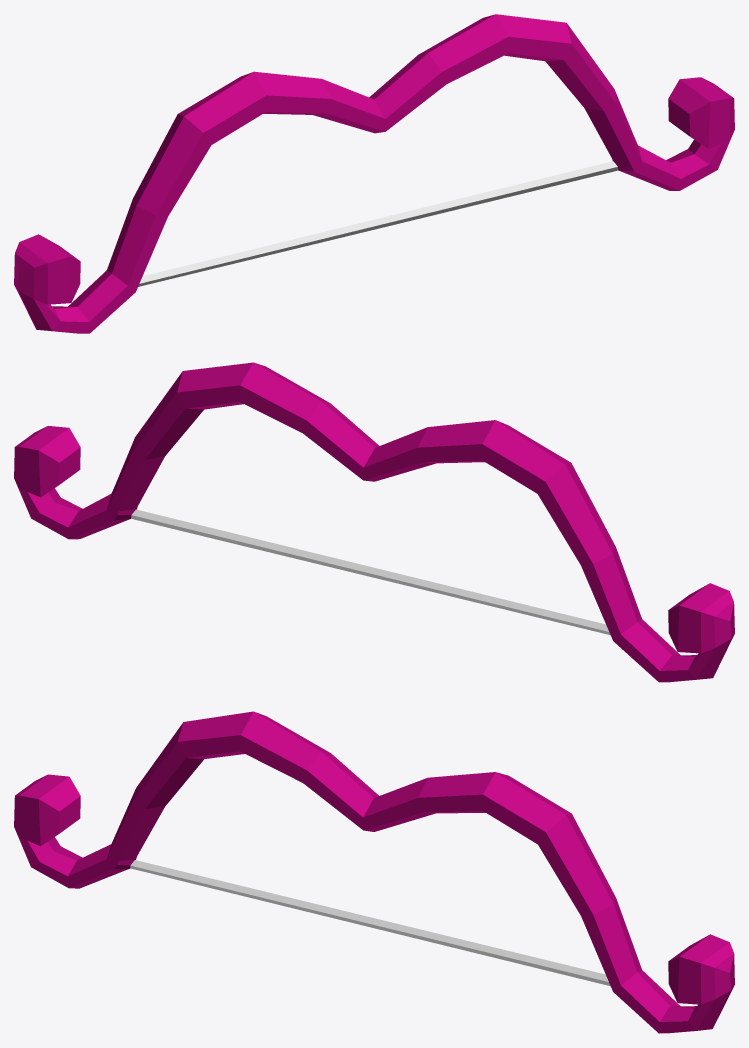
The model's file is bow_angle.fbx.
3 renders of one model, top to bottom at view 1: azimuth 30°, elevation 25°; view 2: azimuth 150°, elevation 25°; view 3: azimuth 330°, elevation 25°, orthographic.
Parts seen in each view (by area): view 1: RJVP93O:Mesh; view 2: RJVP93O:Mesh; view 3: RJVP93O:Mesh.
Boxes of the visible parts, x1,y1,x2,y2 form: RJVP93O:Mesh: [14, 14, 734, 333]; RJVP93O:Mesh: [14, 362, 734, 682]; RJVP93O:Mesh: [14, 711, 734, 1033].
Size of the model in its own units: 3.21 by 0.948 by 0.2409.
